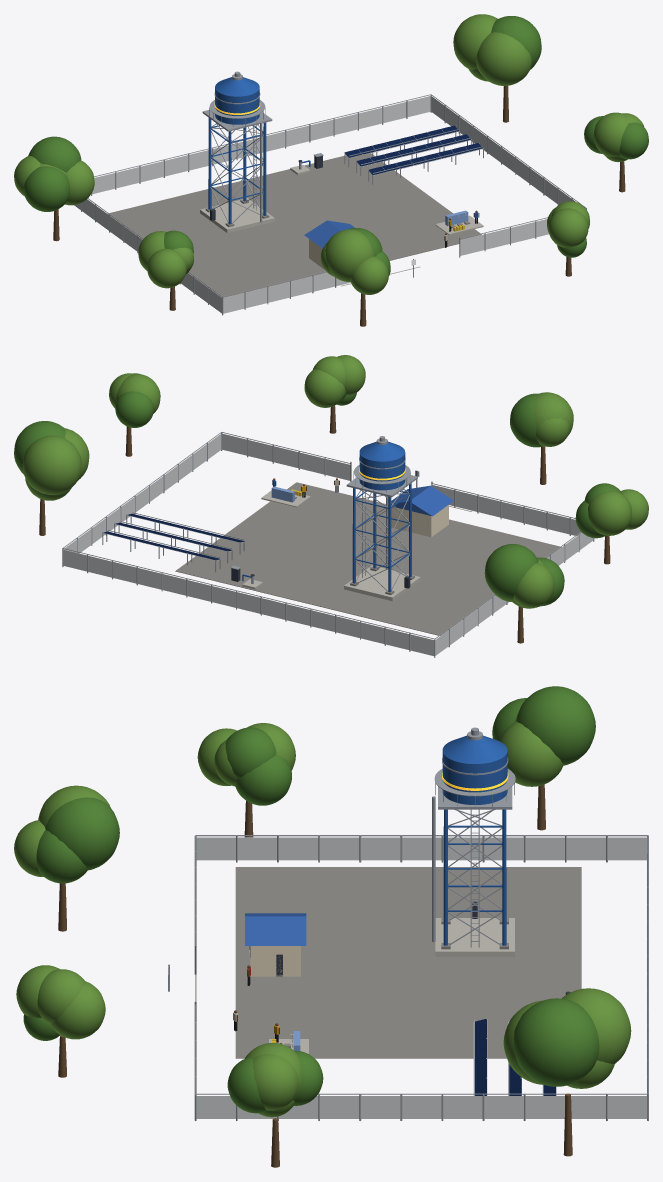
Rendered from Chateau_eau_forage_solaire.glb.
3 renders of one model, top to bottom at view 1: azimuth 30°, elevation 25°; view 2: azimuth 150°, elevation 25°; view 3: azimuth 270°, elevation 25°, orthographic. The views are drawn at different scales.
Size of what is drawn, in the model's own units: 66.79 by 17.55 by 47.73.
